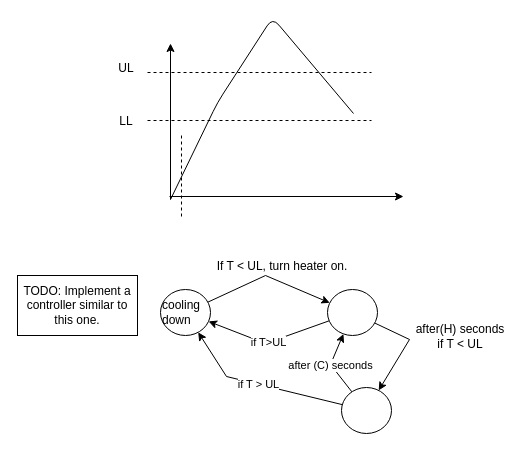
Image size: 526x451. Some labels were removed from this diagram. The shapes that lost their labels are listed below. From the top down, each one's centre as x and y in pixels, then its label:
At point 352,312: "heating".
At point 366,410: "waiting".
